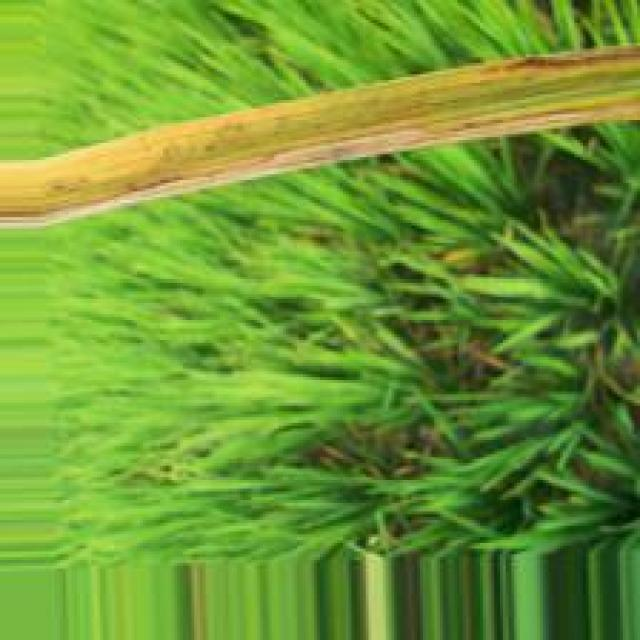Leaf_Blast: (40, 107, 586, 225), (472, 46, 637, 77)
